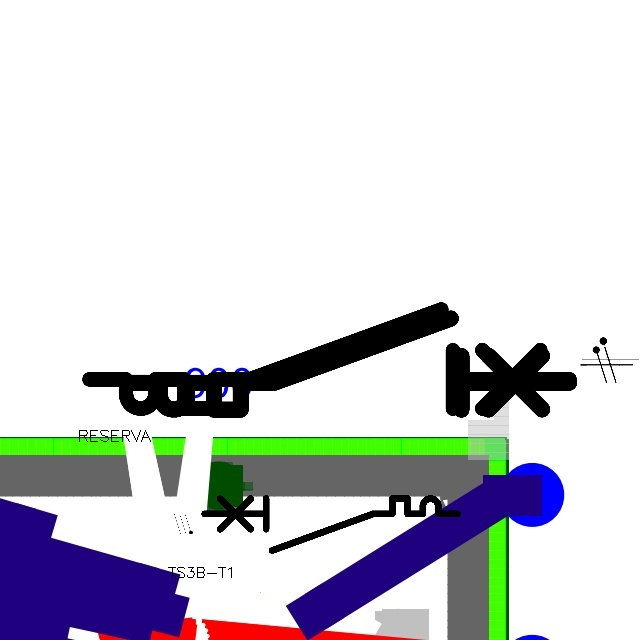interruptor_termomagnetico: (77, 297, 582, 421), (115, 307, 580, 421), (198, 492, 464, 557)
